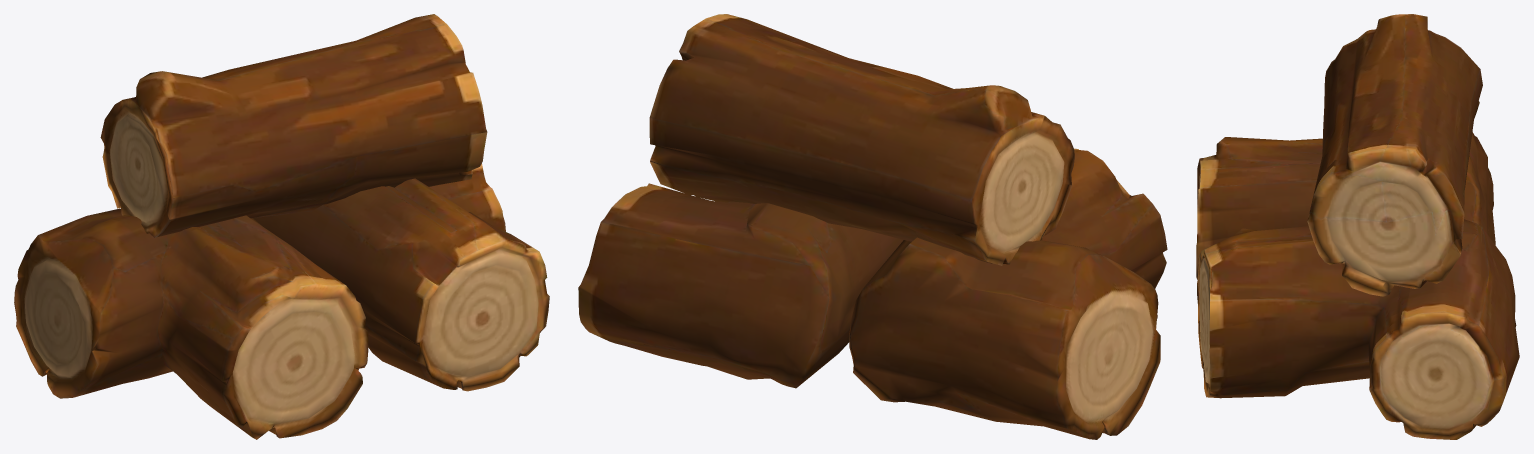
Rendered from buches.glb.
3 renders of one model, left to right at view 1: azimuth 30°, elevation 25°; view 2: azimuth 150°, elevation 25°; view 3: azimuth 270°, elevation 25°, orthographic. The views are drawn at different scales.
Parts seen in each view (by area): view 1: geometry_0; view 2: geometry_0; view 3: geometry_0.
Boxes of the visible parts, <box> form: geometry_0: <box>14,14,549,439</box>; geometry_0: <box>578,14,1167,439</box>; geometry_0: <box>1196,14,1519,439</box>.
Bounding box in the file's own units: 0.9575 × 0.605 × 0.6357.
Materials: 1 (1 with a texture image).
